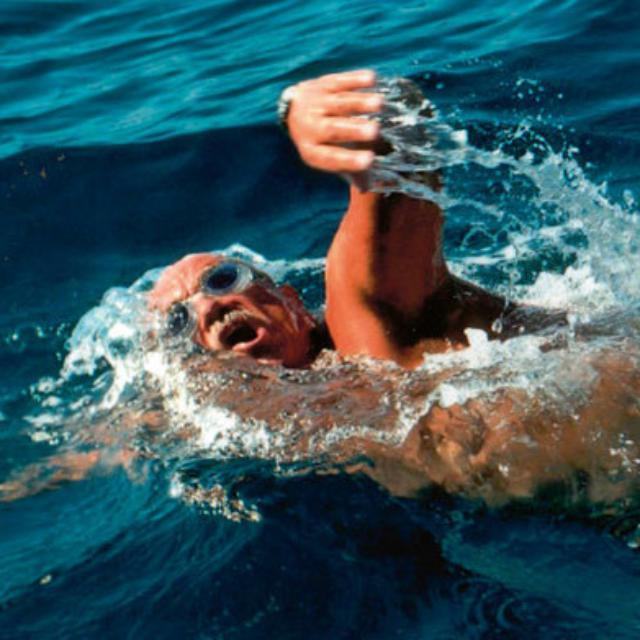human: (65, 75, 639, 530)
